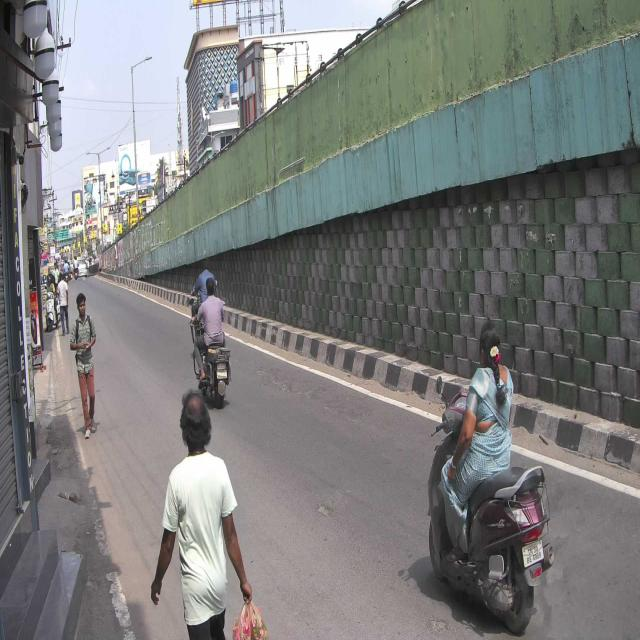single_rider: (427, 320, 565, 640)
